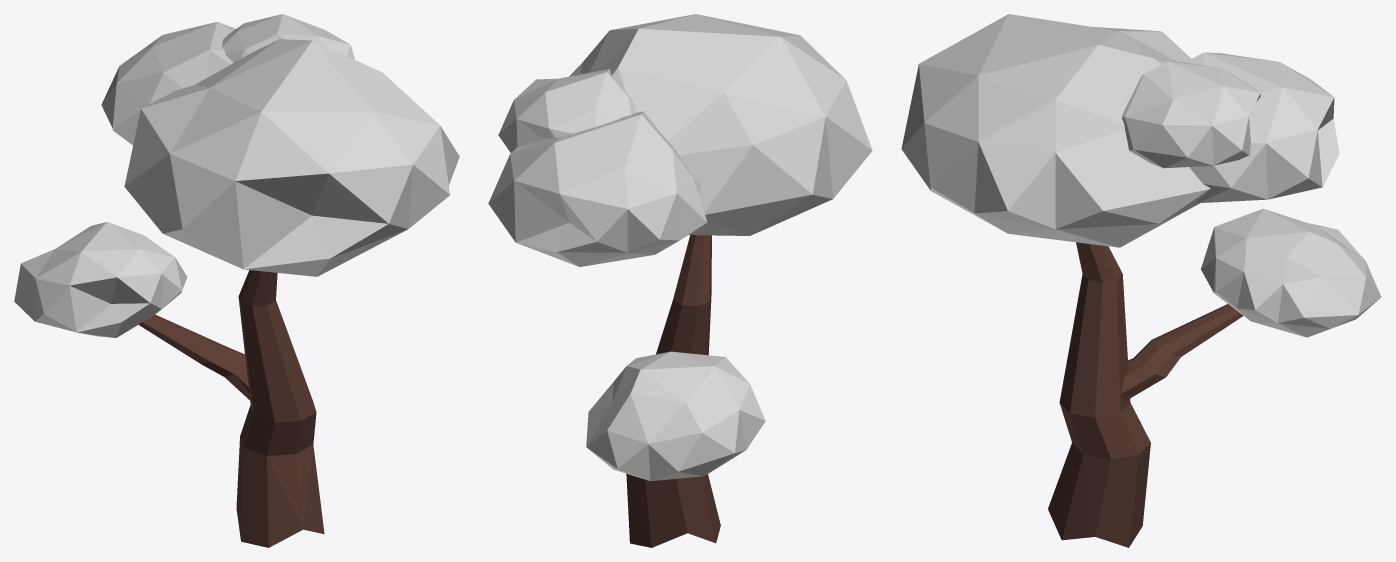
File: trees02.fbx
The picture shows the model from 3 angles, left to right: view 1: azimuth 30°, elevation 25°; view 2: azimuth 150°, elevation 25°; view 3: azimuth 270°, elevation 25°; orthographic projection. The views are drawn at different scales.
Parts seen in each view (by area): view 1: Icosphere.001; view 2: Icosphere.001; view 3: Icosphere.001.
Boxes of the visible parts, <box> form: Icosphere.001: <box>14,14,459,547</box>; Icosphere.001: <box>488,14,872,547</box>; Icosphere.001: <box>901,14,1381,547</box>.
Size of the model in its own units: 3.38 by 5.25 by 4.52.
